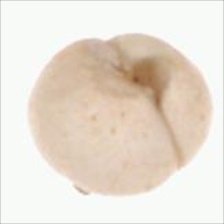L3: (112, 50, 171, 113)
L4: (27, 33, 211, 195)
